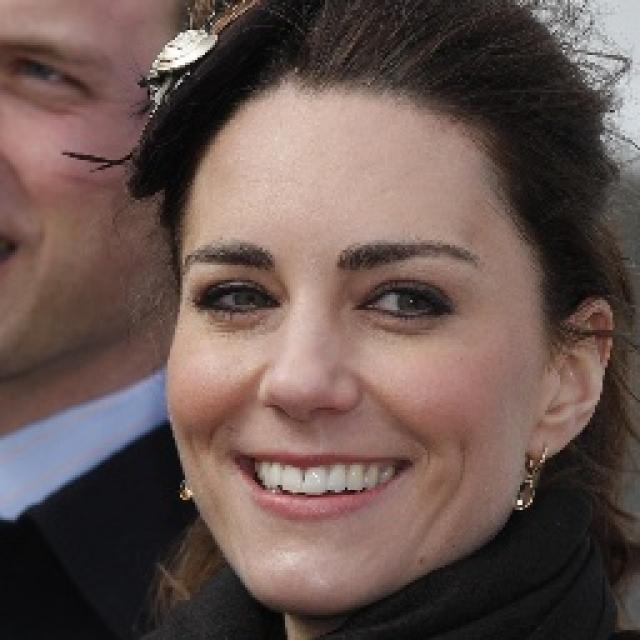earlobe: (527, 409, 571, 466)
eye: (6, 53, 95, 108), (362, 282, 450, 328), (192, 280, 280, 316)
nose: (256, 398, 363, 443)
wholeear: (526, 296, 614, 467)
